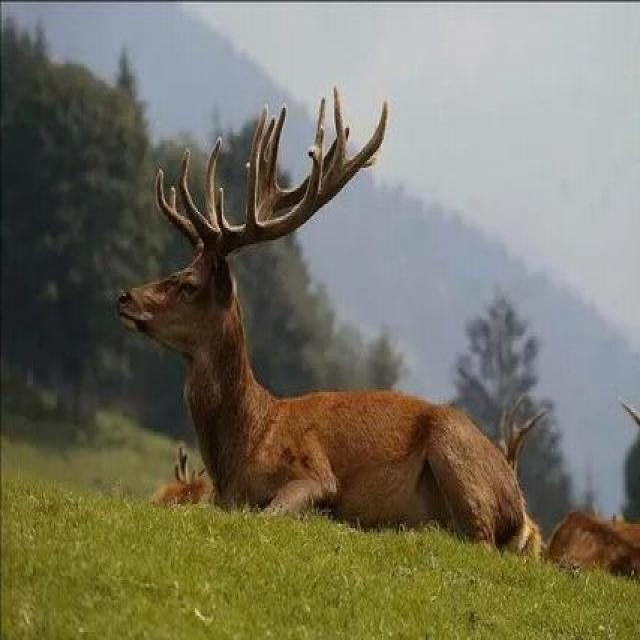deer: (121, 111, 586, 620)
